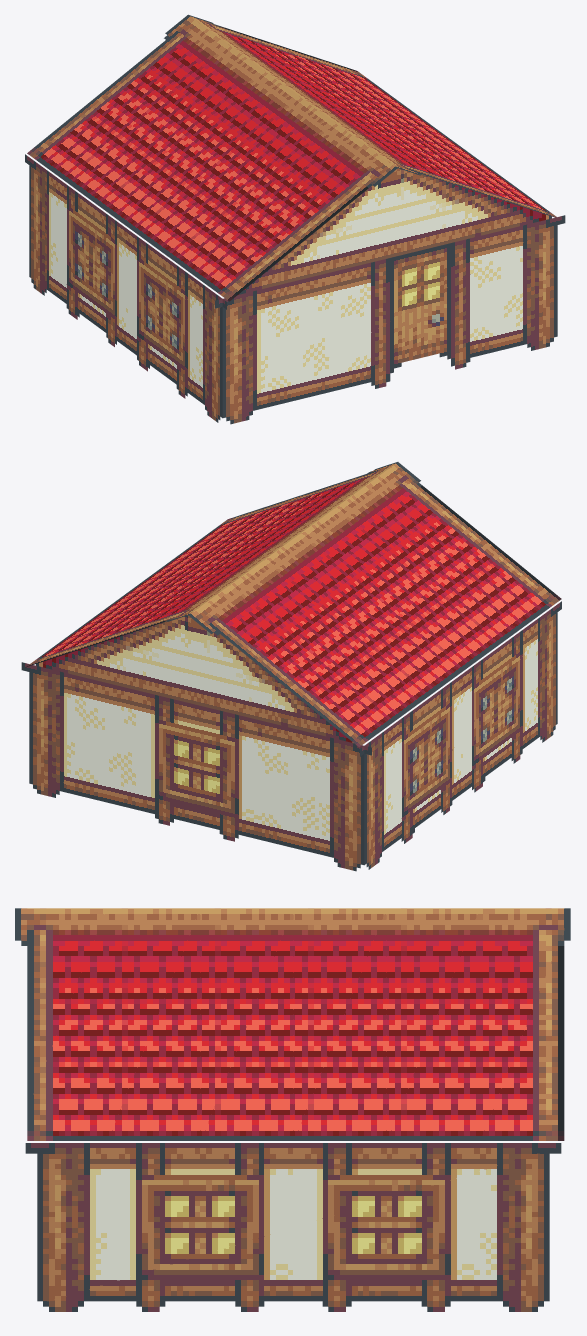
The model's file is House_1.gltf.
3 renders of one model, top to bottom at view 1: azimuth 30°, elevation 25°; view 2: azimuth 150°, elevation 25°; view 3: azimuth 270°, elevation 25°, orthographic. The views are drawn at different scales.
Bounding box in the file's own units: 6 × 3.5 × 6.
Materials: 2 (2 with a texture image).
